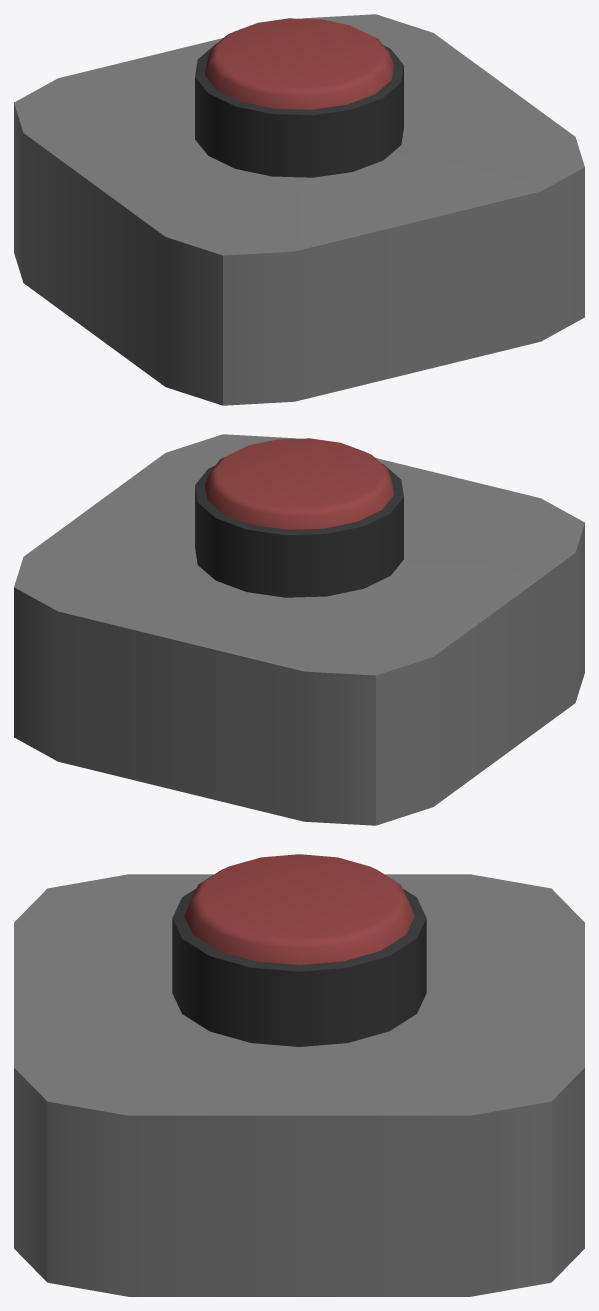
File: Boton.fbx
3 views of the same model, one above another, from view 1: azimuth 30°, elevation 25°; view 2: azimuth 150°, elevation 25°; view 3: azimuth 270°, elevation 25° (orthographic). The views are drawn at different scales.
Parts seen in each view (by area): view 1: pCube1; view 2: pCube1; view 3: pCube1.
Boxes of the visible parts, left/top/right/bottom form: pCube1: left=14, top=14, right=584, bottom=405; pCube1: left=14, top=434, right=584, bottom=825; pCube1: left=14, top=854, right=584, bottom=1296.
Bounding box in the file's own units: 0.1 × 0.0541 × 0.1.
